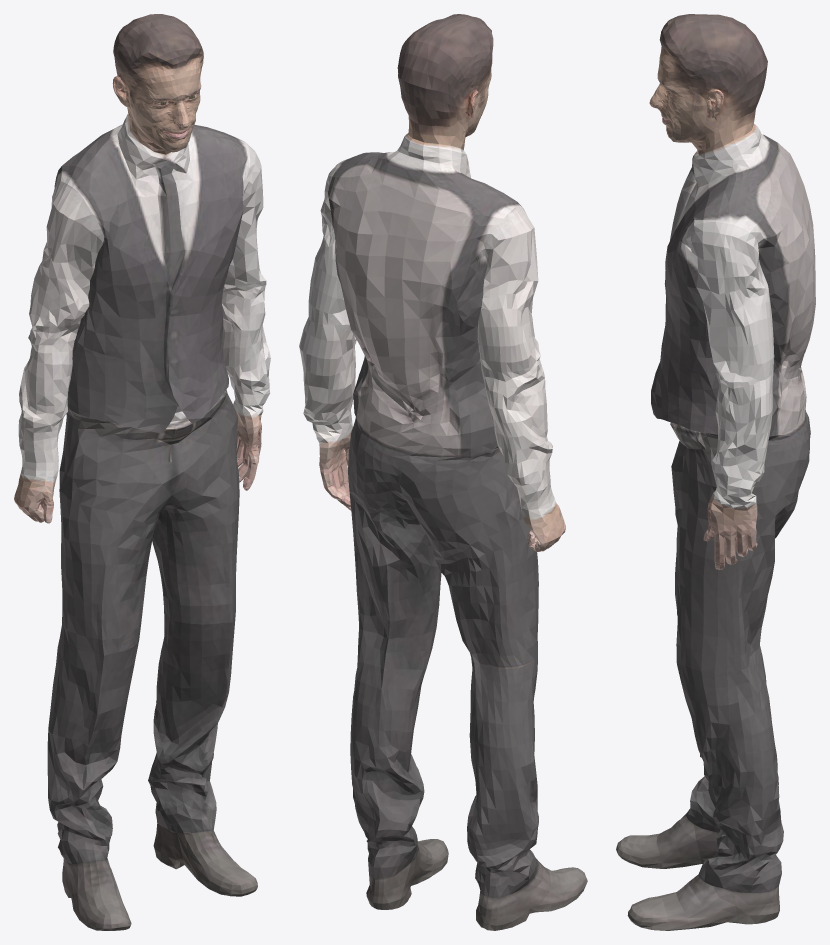
3 renders of one model, left to right at view 1: azimuth 30°, elevation 25°; view 2: azimuth 150°, elevation 25°; view 3: azimuth 270°, elevation 25°, orthographic. The views are drawn at different scales.
Bounding box in the file's own units: 0.5562 × 1.85 × 0.3794.
1 material, 1 textured.
